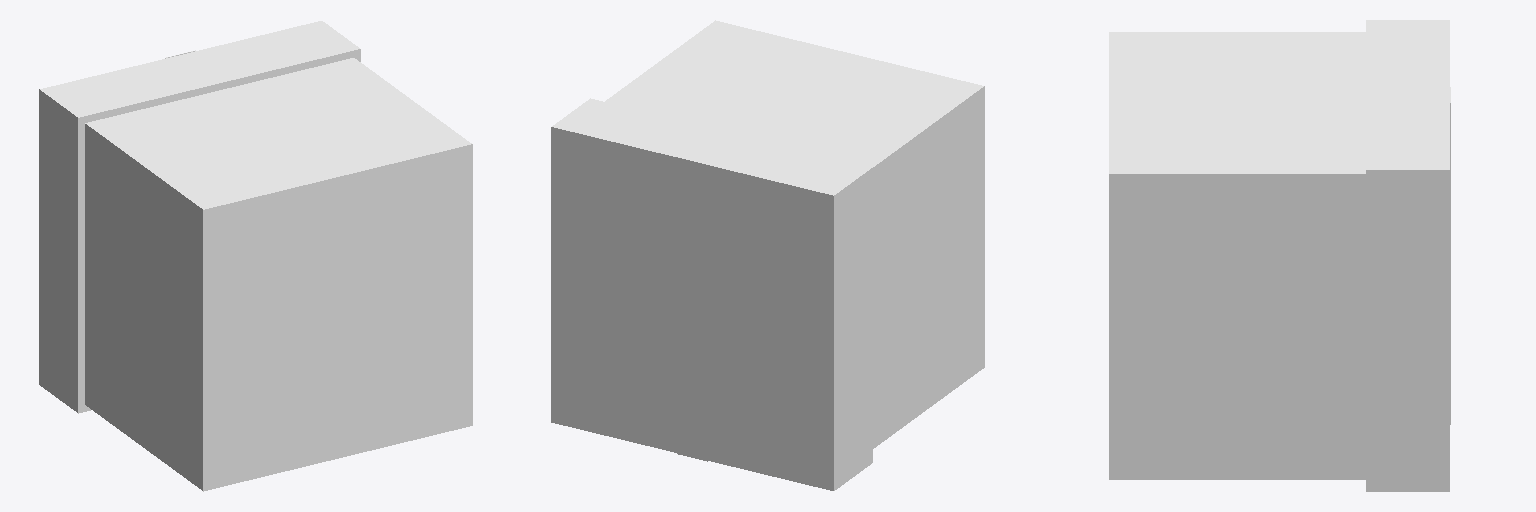
The robot description file, URDF, robot "field":
<?xml version="1.0" ?>
<robot name="field">
  <link name="fieldLink">
    <contact>
      <lateral_friction value="1"/>
    </contact>
    <inertial>
      <origin rpy="0 0 0" xyz="0 0 0"/>
       <mass value="5"/>
       <inertia ixx="1" ixy="0" ixz="0" iyy="1" iyz="0" izz="1"/>
    </inertial>
    <visual>
      <origin rpy="0 0 0" xyz="0 0 0"/>
      <geometry>
        <mesh filename="box.obj" scale=".3 .3 .3"/>
      </geometry>
      <material name="white">
        <color rgba="1 1 1 1"/>
      </material>
    </visual>
    <collision>
      <origin rpy="0 0 0" xyz="0 0.3 0"/>
      <geometry>
	 	    <box size="0.6 0.6 0.6"/>
      </geometry>
    </collision>
  </link>
</robot>

--- Render facts (derived) ---
The picture shows the robot from 3 angles, left to right: view 1: azimuth 30°, elevation 25°; view 2: azimuth 150°, elevation 25°; view 3: azimuth 270°, elevation 25°; orthographic projection.
Robot: field — 1 links, 0 joints (none); root link fieldLink; default pose: all joints at 0.
Visible links, largest first — view 1: fieldLink; view 2: fieldLink; view 3: fieldLink.
Link boxes in pixels (x1,y1,x2,y2): fieldLink: (39,21,472,491); fieldLink: (551,20,984,490); fieldLink: (1109,20,1450,491).
Bounding box of the posed robot: 0.63 × 0.6086 × 0.6324 m (x, y, z).
Meshes: 1 distinct files referenced, 1 mesh visuals loaded (1 OBJ).